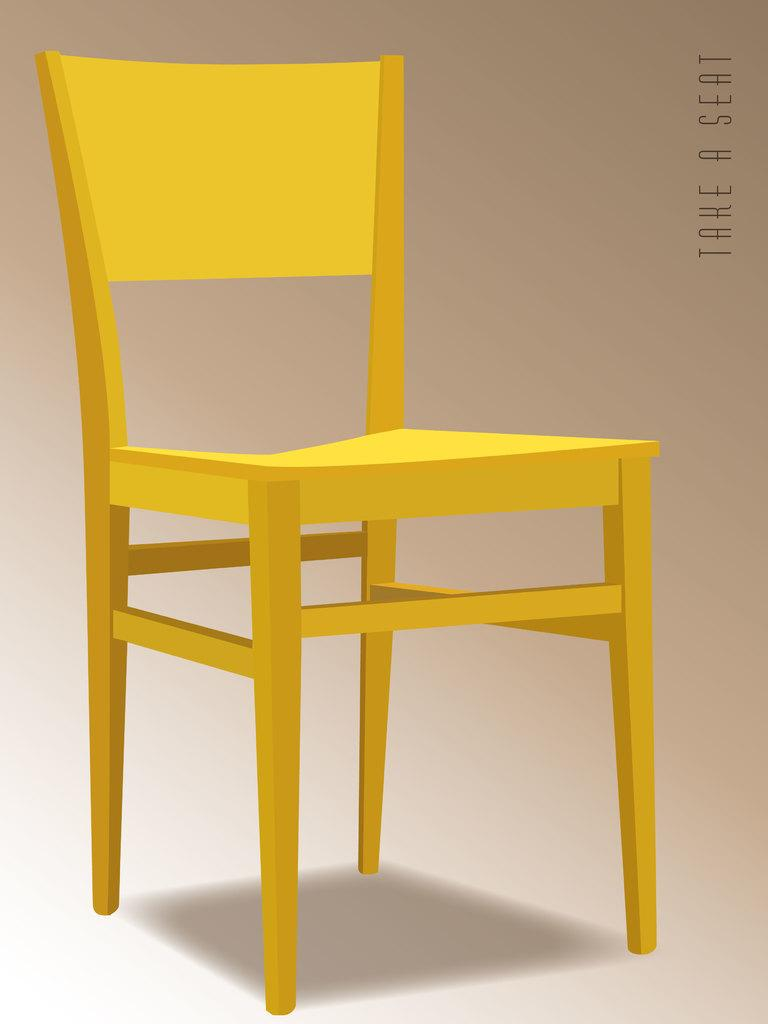Chair: (26, 49, 667, 1012)
